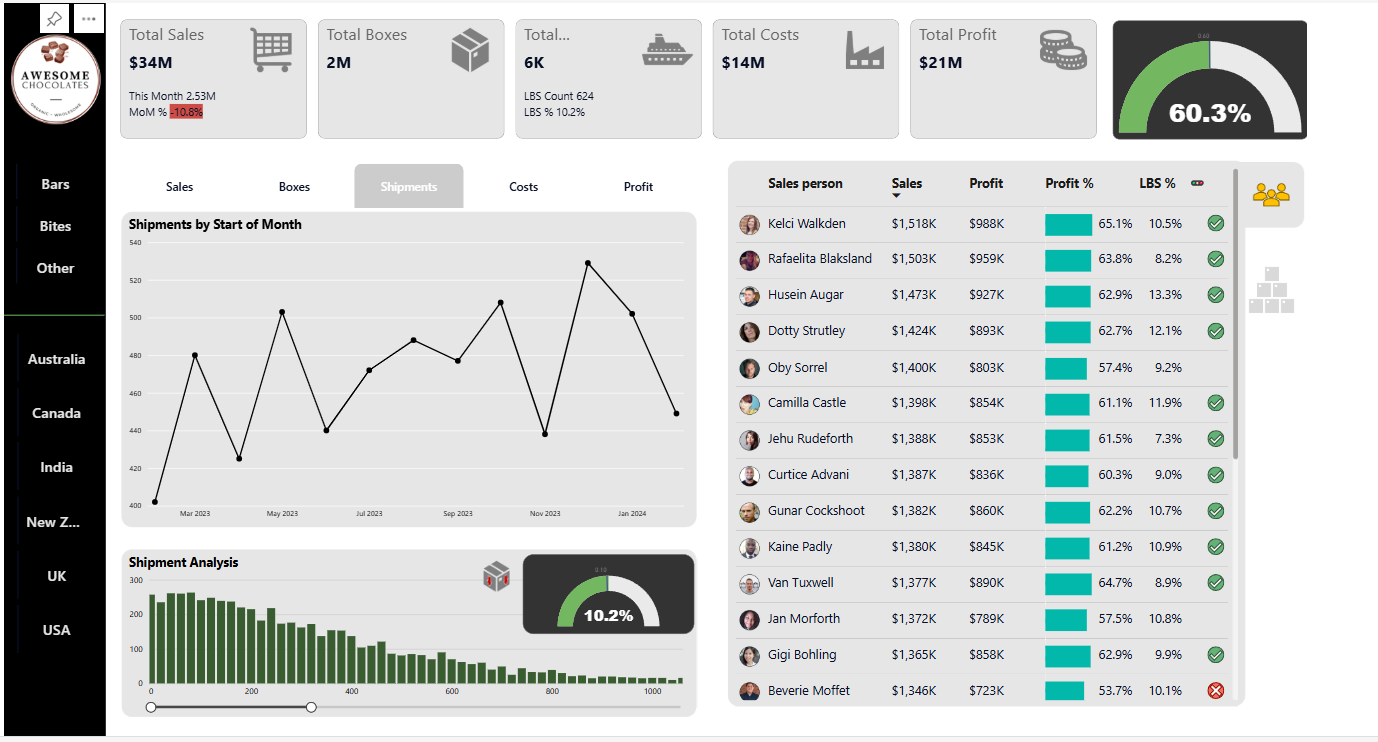

The dashboard page shown, as its layout file describes it:
{"tool":"powerbi","page":{"name":"Sales Report","canvas":[1920,1080],"ordinal":2},"visuals":[{"type":"shape","box":[0,0,150,1080],"z":0},{"type":"cardVisual","fields":{"Data":["_Measures.Total Sales","_Measures.Total Boxes","_Measures.Total Shipments","_Measures.Total Costs","_Measures.Total Profit"]},"box":[172,24,1440,176],"z":1000},{"type":"gauge","fields":{"Y":["_Measures.Profit %"]},"box":[1632.8,26,287.6,175.2],"z":2000},{"type":"image","box":[6,26,142,174],"z":3000},{"type":"lineChart","fields":{"Y":["_Measures.Total Shipments"],"Category":["calendar.Start of Month"]},"box":[172.5,307.5,847.5,465],"z":4000},{"type":"advancedSlicerVisual","fields":{"Values":["Measure Selector.Measure Selector"]},"box":[172.5,232.5,847.5,75],"z":5000},{"type":"columnChart","title":"Shipment Analysis","fields":{"Category":["shipments.Boxes (bins)"],"Y":["_Measures.Total Shipments"]},"box":[172.5,805,847.5,247.5],"z":6000},{"type":"gauge","fields":{"Y":["_Measures.LBS %"]},"box":[765,812.5,252.5,117.5],"z":7000},{"type":"image","box":[687.5,812.5,77.5,65],"z":8000},{"type":"tableEx","title":"Product Details","fields":{"Values":["products.Product","_Measures.Total Sales","_Measures.Total Profit","_Measures.Profit %","_Measures.LBS %","_Measures.Profit Target Indicator"]},"box":[1068,232,762,804],"z":10000},{"type":"image","title":"Icon1_dull","box":[1813.3,236.7,106.7,93.3],"z":11000},{"type":"advancedSlicerVisual","fields":{"Values":["products.Category"]},"box":[12,232,126,186],"z":13000},{"type":"advancedSlicerVisual","fields":{"Values":["locations.Geo"]},"box":[14,482,126,480],"z":14000},{"type":"shape","box":[0,418,148,84],"z":15000},{"type":"image","title":"icon2_highlight","box":[1820,328,90,180],"z":17000}]}

Visuals, with their boxes on the page's 1920x1080 design canvas (x1, y1, x2, y2). These are canvas units, not pixel positions in the 1378x742 screenshot, which may show the page scaled, cropped or inside an application window:
shape: left=0, top=0, right=150, bottom=1080
cardVisual - _Measures.Total Sales x _Measures.Total Boxes: left=172, top=24, right=1612, bottom=200
gauge - _Measures.Profit %: left=1633, top=26, right=1920, bottom=201
image: left=6, top=26, right=148, bottom=200
lineChart - _Measures.Total Shipments x calendar.Start of Month: left=172, top=308, right=1020, bottom=772
advancedSlicerVisual - Measure Selector.Measure Selector: left=172, top=232, right=1020, bottom=308
"Shipment Analysis" columnChart: left=172, top=805, right=1020, bottom=1052
gauge - _Measures.LBS %: left=765, top=812, right=1018, bottom=930
image: left=688, top=812, right=765, bottom=878
"Product Details" tableEx: left=1068, top=232, right=1830, bottom=1036
"Icon1_dull" image: left=1813, top=237, right=1920, bottom=330
advancedSlicerVisual - products.Category: left=12, top=232, right=138, bottom=418
advancedSlicerVisual - locations.Geo: left=14, top=482, right=140, bottom=962
shape: left=0, top=418, right=148, bottom=502
"icon2_highlight" image: left=1820, top=328, right=1910, bottom=508
